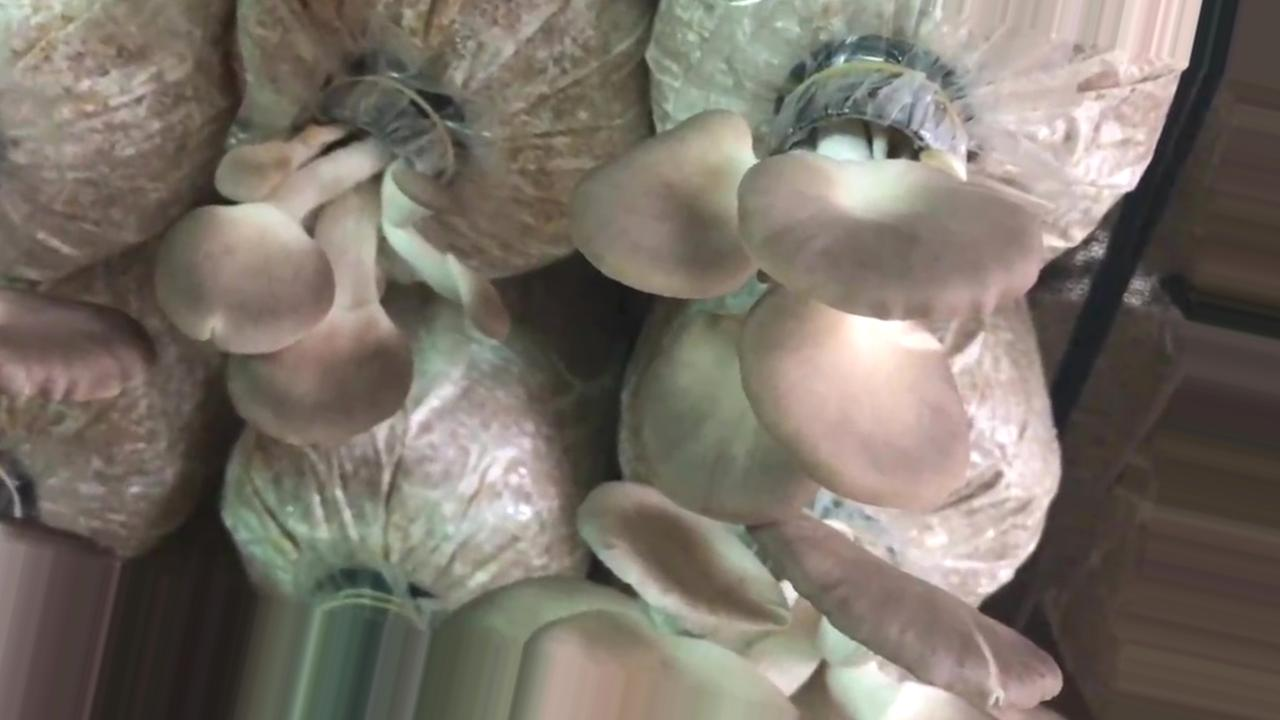nam: (578, 45, 1049, 532), (438, 473, 1068, 714), (160, 91, 516, 452)
